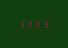nine: (39, 20, 45, 28)
three: (18, 19, 24, 27)
zero: (32, 19, 38, 28), (25, 19, 31, 27)
